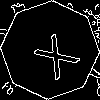X: (25, 25, 81, 81)
